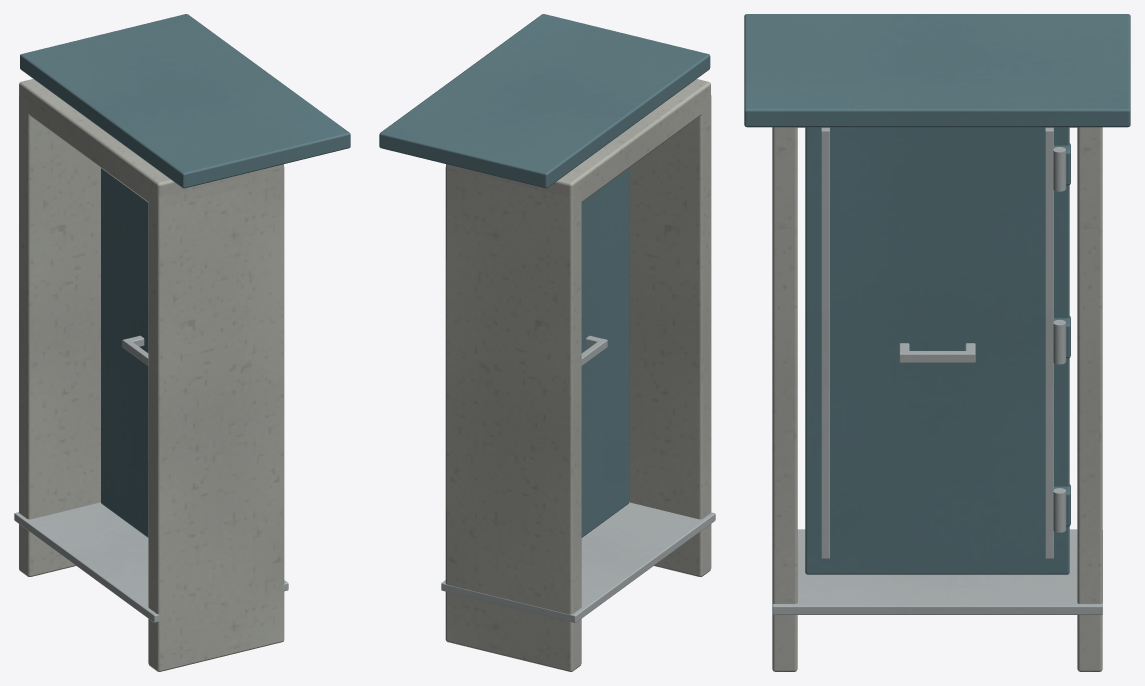
Rendered from gorgehold-survivor-gallery-and-operations-gallery-side-7189c0c9__32852.glb.
3 views of the same model, side by side, from view 1: azimuth 30°, elevation 25°; view 2: azimuth 150°, elevation 25°; view 3: azimuth 270°, elevation 25° (orthographic). The views are drawn at different scales.
Visible parts, largest first — view 1: gallery-side-refuge-doorway; view 2: gallery-side-refuge-doorway; view 3: gallery-side-refuge-doorway.
Boxes of the visible parts, <box> form: gallery-side-refuge-doorway: <box>14,14,350,671</box>; gallery-side-refuge-doorway: <box>379,14,715,671</box>; gallery-side-refuge-doorway: <box>744,14,1130,671</box>.
Bounding box in the file's own units: 0.99 × 2.58 × 1.52.
3 materials, 3 textured.
